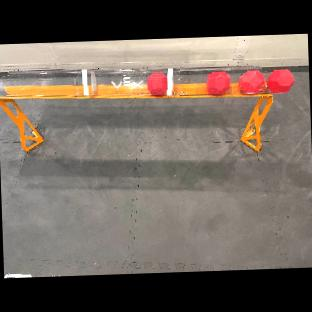redingoal: (265, 66, 296, 95), (237, 68, 266, 95), (204, 68, 232, 95), (143, 72, 170, 96)
